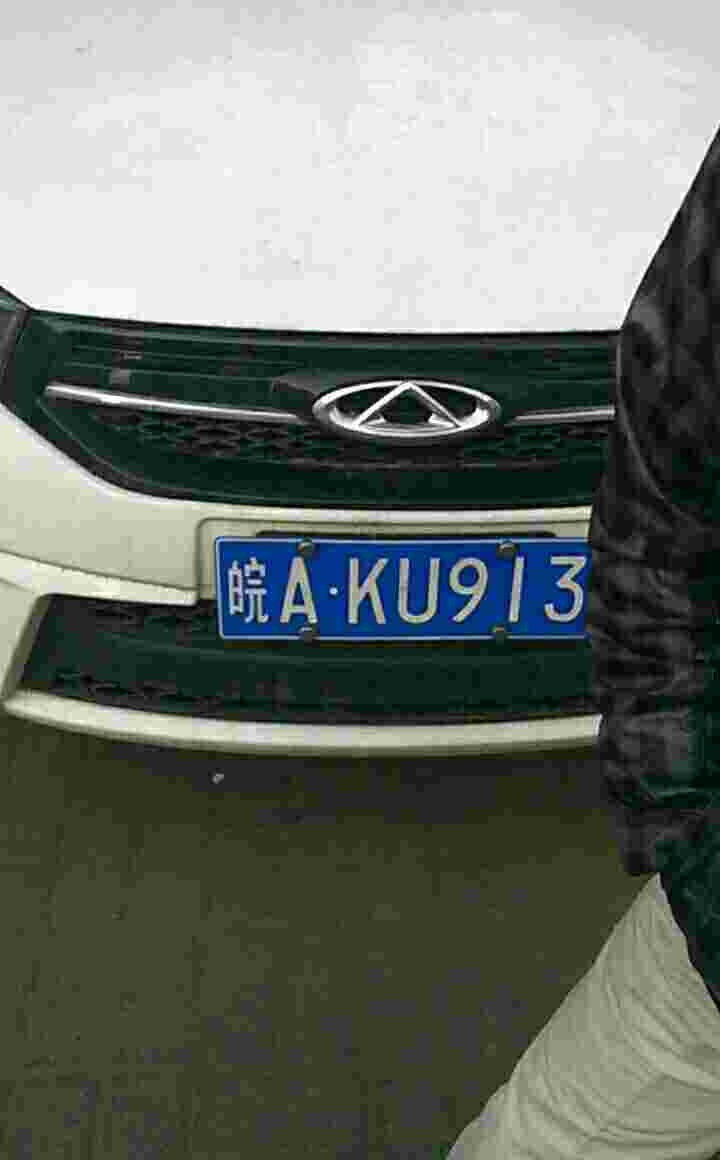license_plate: (220, 525, 611, 646)
